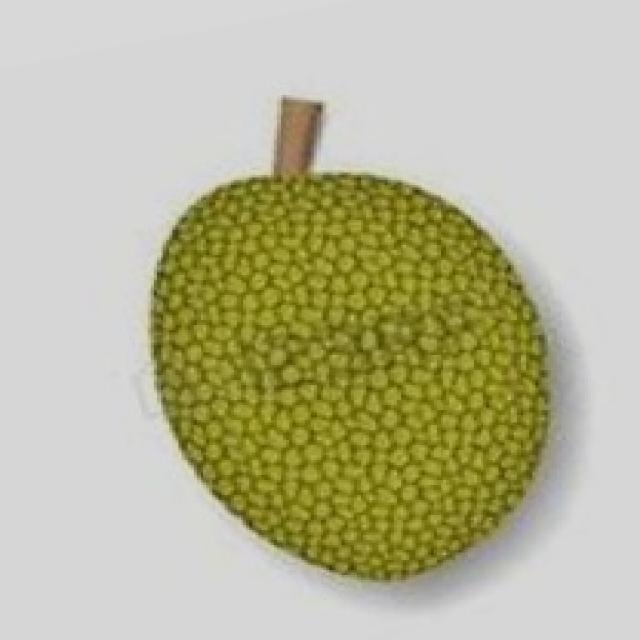Fruit: (234, 142, 597, 618)
